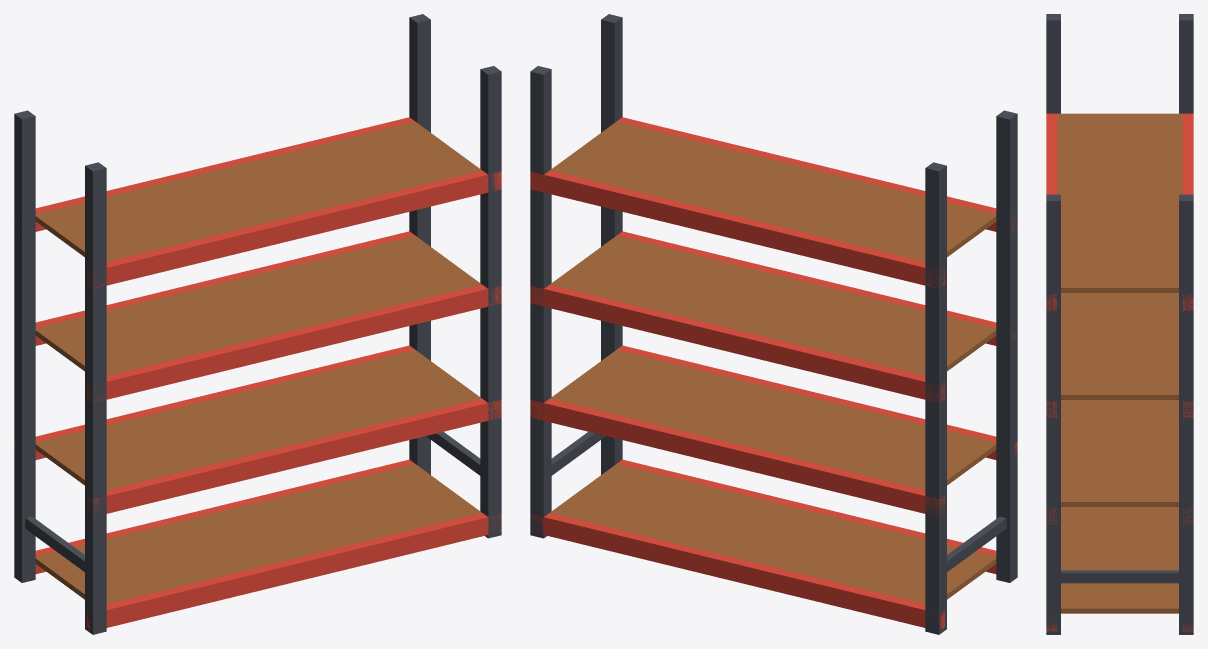
File: warehouse-shelf.glb
The picture shows the model from 3 angles, left to right: view 1: azimuth 30°, elevation 25°; view 2: azimuth 150°, elevation 25°; view 3: azimuth 270°, elevation 25°; orthographic projection. The views are drawn at different scales.
Parts seen in each view (by area): view 1: warehouse_shelf; view 2: warehouse_shelf; view 3: warehouse_shelf.
Part boxes in pixels (x1,y1,x2,y2): warehouse_shelf: [14, 14, 501, 634]; warehouse_shelf: [530, 14, 1017, 634]; warehouse_shelf: [1046, 14, 1193, 634].
Bounding box in the file's own units: 2.4 × 2.6 × 0.8.
